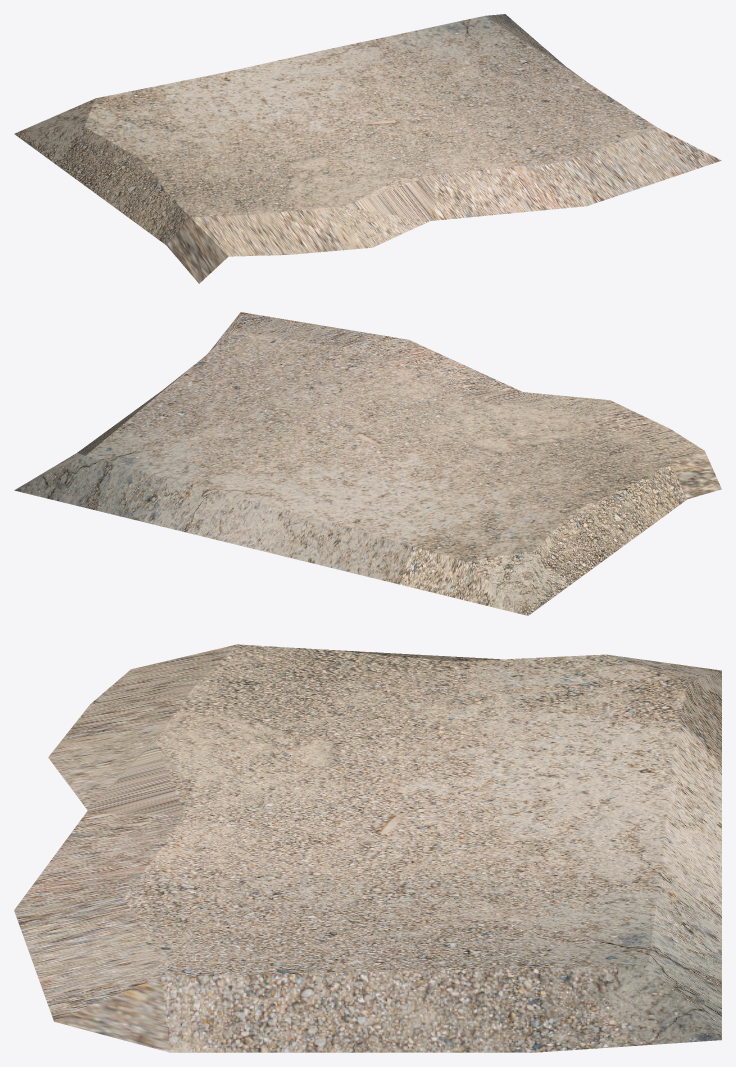
File: Desert.gltf
3 views of the same model, one above another, from view 1: azimuth 30°, elevation 25°; view 2: azimuth 150°, elevation 25°; view 3: azimuth 270°, elevation 25° (orthographic). The views are drawn at different scales.
Visible parts, largest first — view 1: sima; view 2: sima; view 3: sima.
Boxes of the visible parts, x1,y1,x2,y2 form: sima: [14, 14, 721, 283]; sima: [14, 312, 721, 615]; sima: [14, 644, 721, 1052].
Size of the model in its own units: 6 by 0.4786 by 4.86.
1 material, 1 textured.
